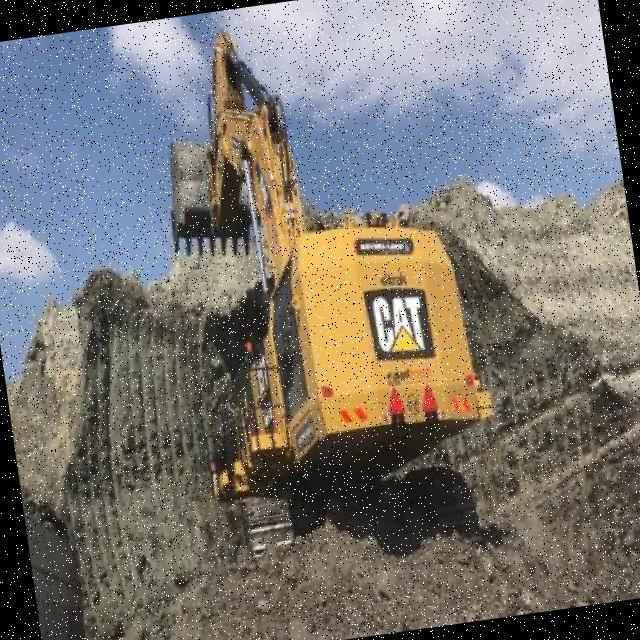Dump Truck: (14, 438, 99, 640)
Excavator: (144, 0, 516, 595)
